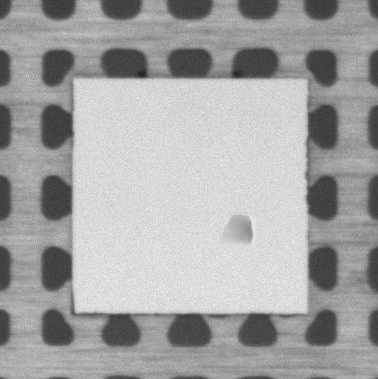DIE_INK: (215, 211, 257, 249)
